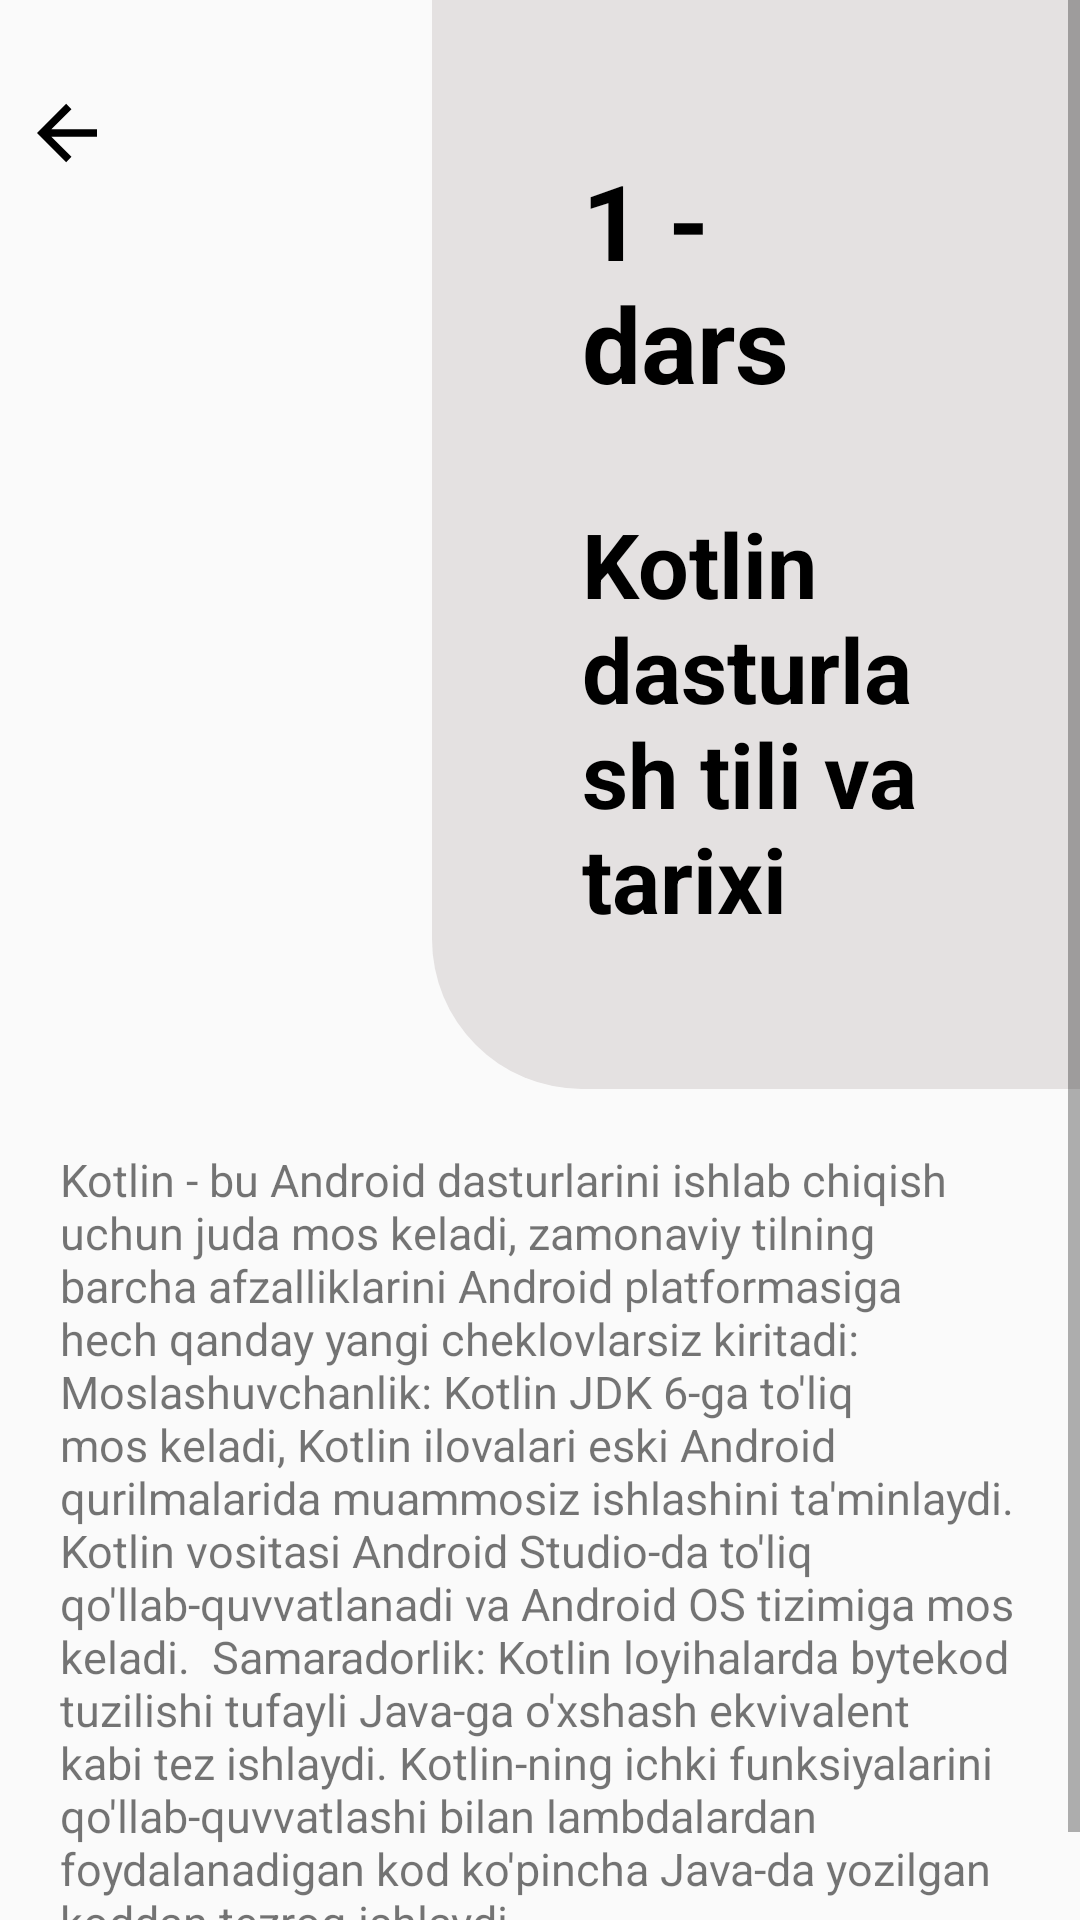

Icons on this 1080w x 1920h Android screen, each with the point to tap as (x=x, y=y):
back: (x=67, y=133)
